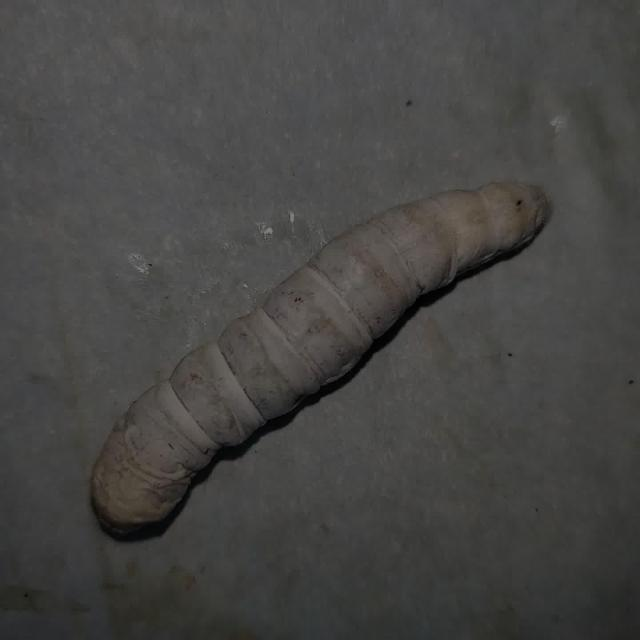Grasserie: (80, 167, 558, 546)
